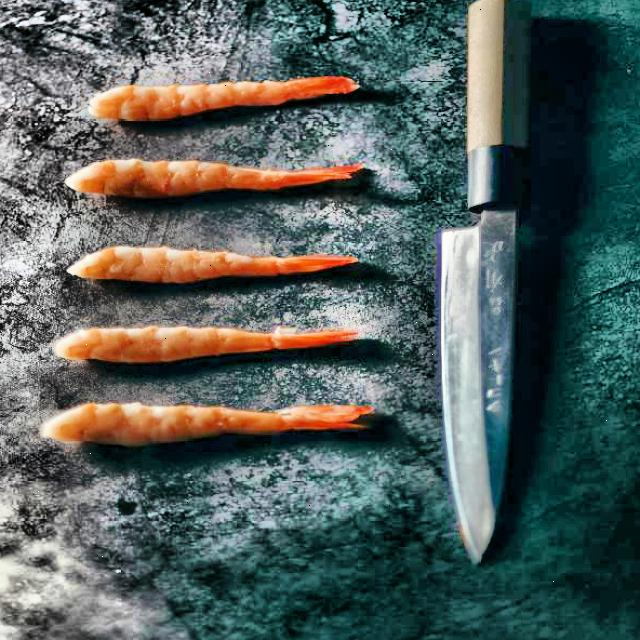knife: (433, 0, 528, 570)
